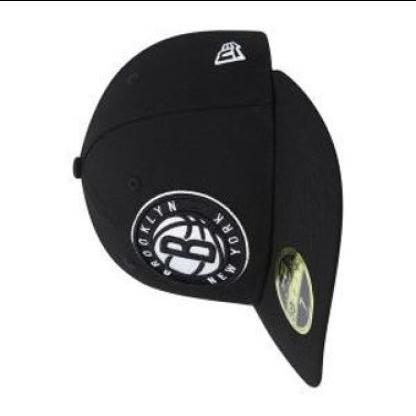cap: (69, 22, 349, 400)
